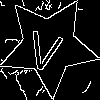V: (24, 21, 67, 74)
